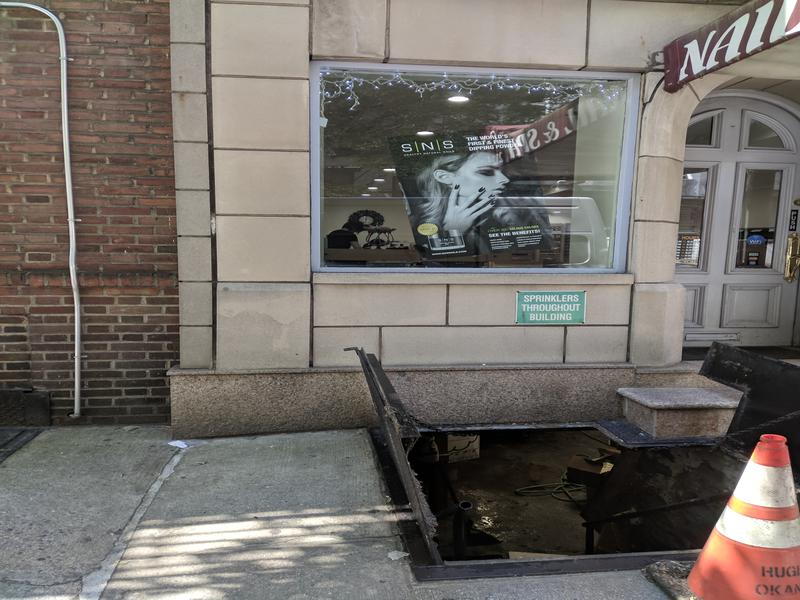door: (686, 89, 800, 352)
